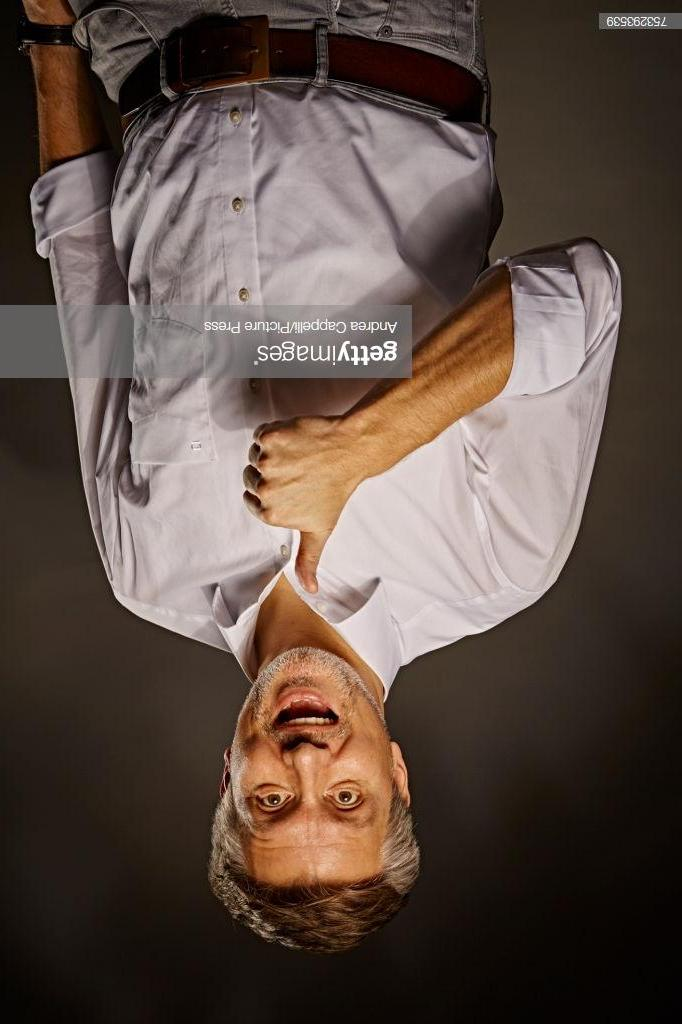thumbsdown: (243, 418, 329, 594)
